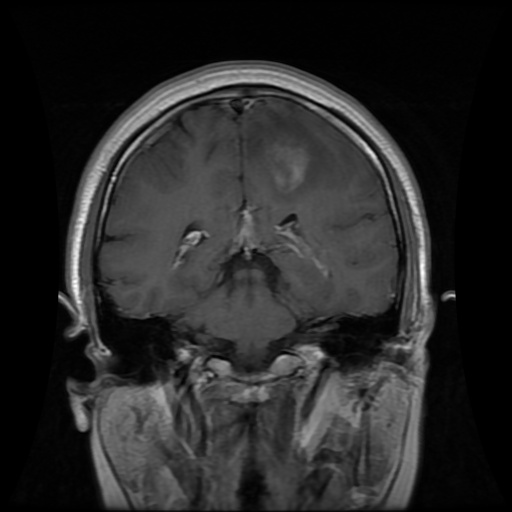glioma: (262, 132, 312, 197)
